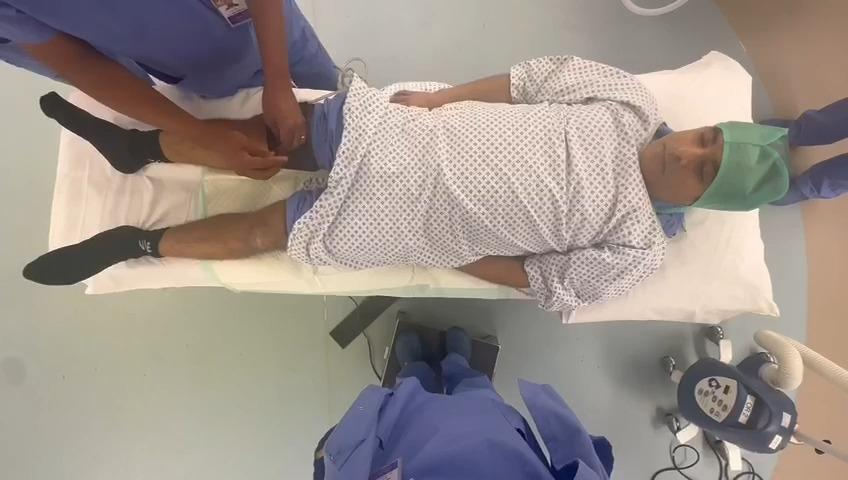patient: (23, 56, 787, 311)
tourniquet: (285, 103, 321, 171), (267, 128, 278, 150)
